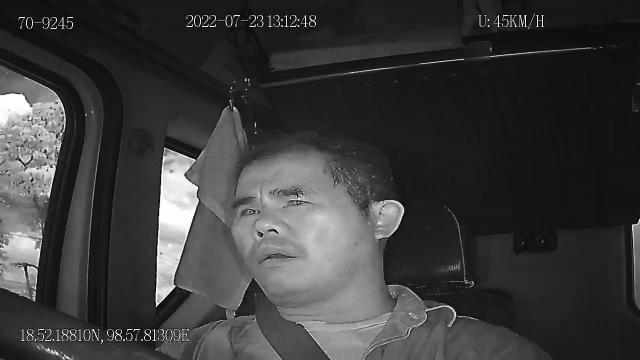SafeDriving: (275, 188, 315, 214), (234, 198, 266, 222)
Seatbelt: (253, 290, 333, 360)
